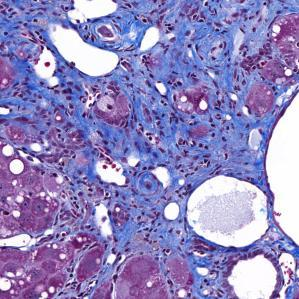fibrosis: (98, 6, 277, 104), (12, 83, 172, 180), (118, 109, 278, 191)
